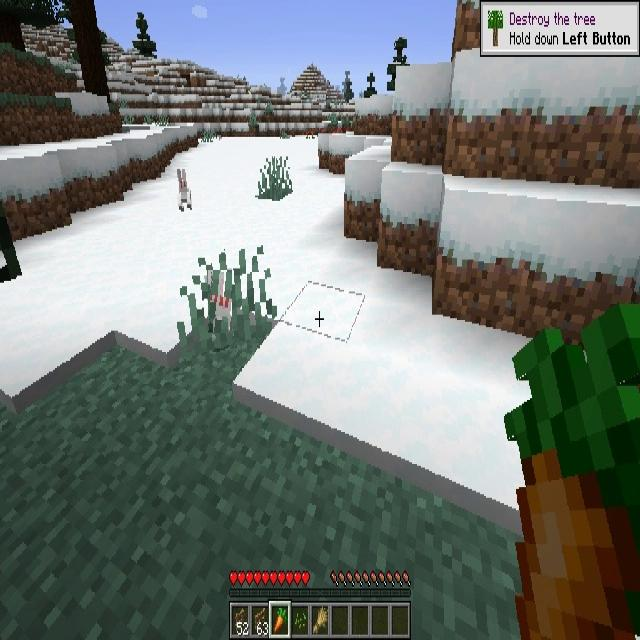rabbit: (208, 270, 232, 333), (177, 170, 193, 212)
